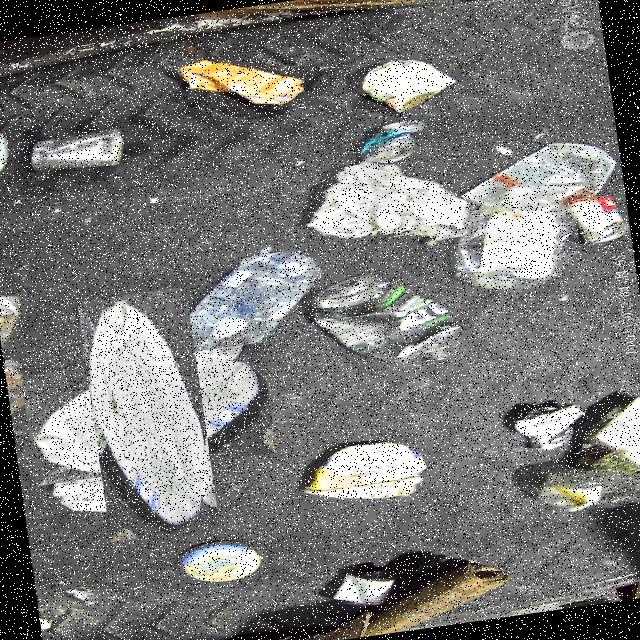milk-jug: (48, 314, 248, 514)
